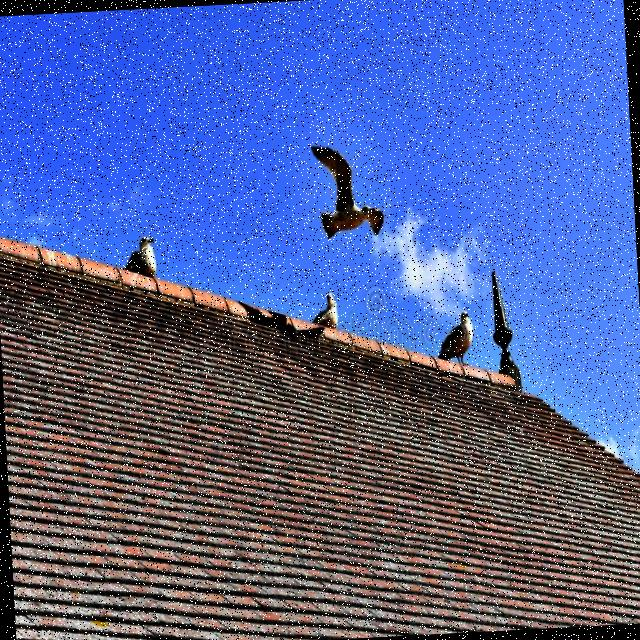bird: (311, 142, 386, 240), (436, 310, 476, 368), (122, 236, 158, 280), (310, 291, 339, 331)
